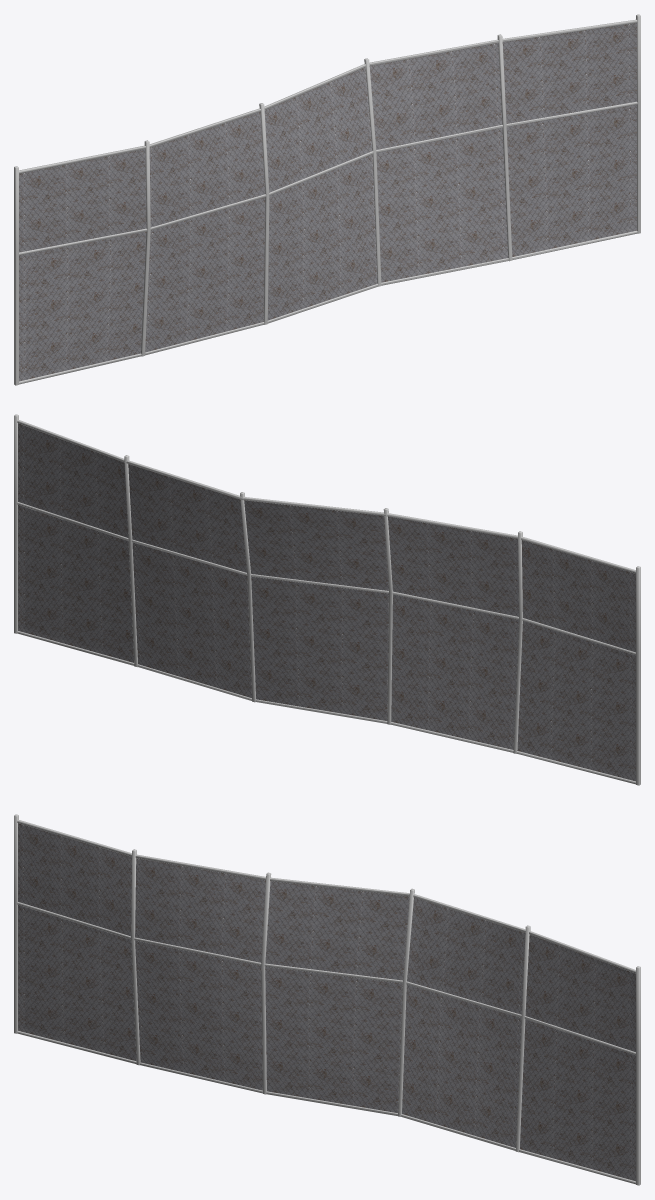
Rendered from ChainFence01_3.FBX.
The picture shows the model from 3 angles, top to bottom: view 1: azimuth 30°, elevation 25°; view 2: azimuth 150°, elevation 25°; view 3: azimuth 330°, elevation 25°; orthographic projection.
Parts seen in each view (by area): view 1: ChainFence01_3; view 2: ChainFence01_3; view 3: ChainFence01_3.
Part boxes in pixels (<box>): ChainFence01_3: <box>14,14,640,385</box>; ChainFence01_3: <box>14,414,640,785</box>; ChainFence01_3: <box>14,814,640,1185</box>.
Bounding box in the file's own units: 1221 × 406 × 109.
